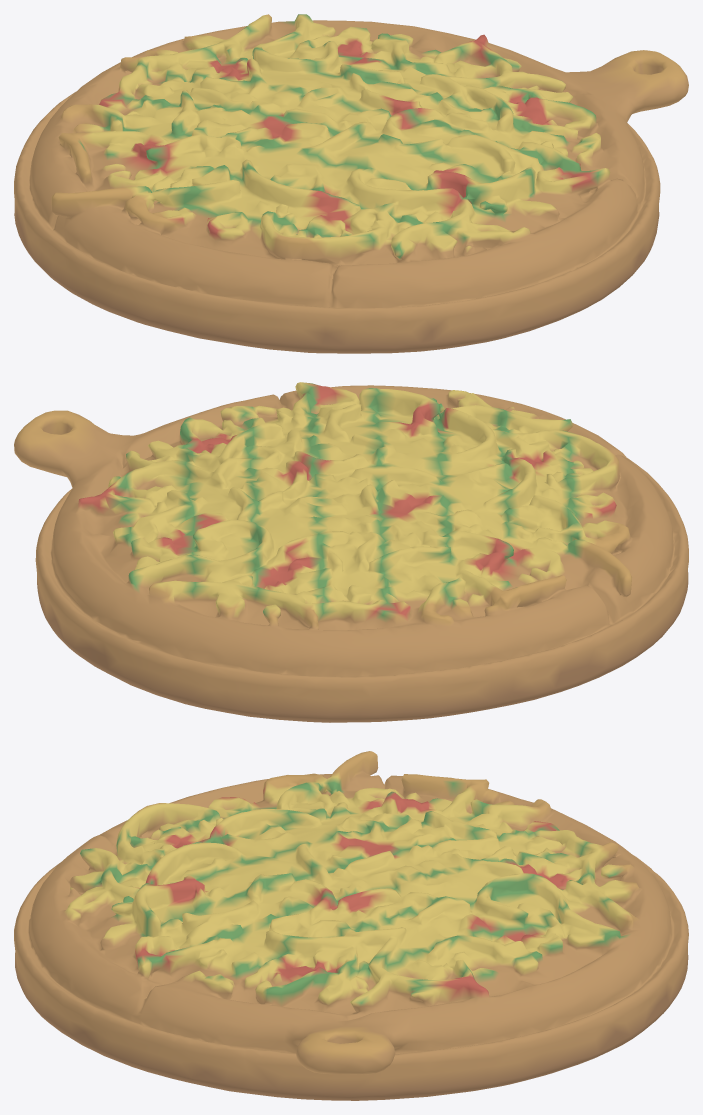
File: colored_pizza.glb
The picture shows the model from 3 angles, top to bottom: view 1: azimuth 30°, elevation 25°; view 2: azimuth 150°, elevation 25°; view 3: azimuth 270°, elevation 25°; orthographic projection.
Parts seen in each view (by area): view 1: white_mesh (1).glb; view 2: white_mesh (1).glb; view 3: white_mesh (1).glb.
Boxes of the visible parts, left/top/right/bottom form: white_mesh (1).glb: left=14, top=14, right=688, bottom=353; white_mesh (1).glb: left=14, top=382, right=688, bottom=722; white_mesh (1).glb: left=14, top=751, right=688, bottom=1100.
Bounding box in the file's own units: 0.22 × 0.0382 × 0.2075.
